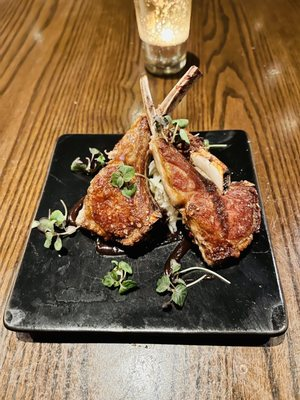pizza: (133, 0, 192, 77)
sandwich: (157, 65, 203, 117)
